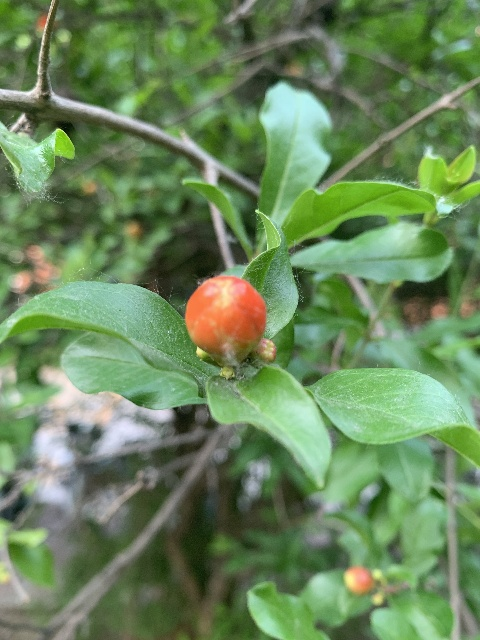bud: (184, 274, 266, 360), (344, 566, 373, 593), (250, 338, 276, 362)
